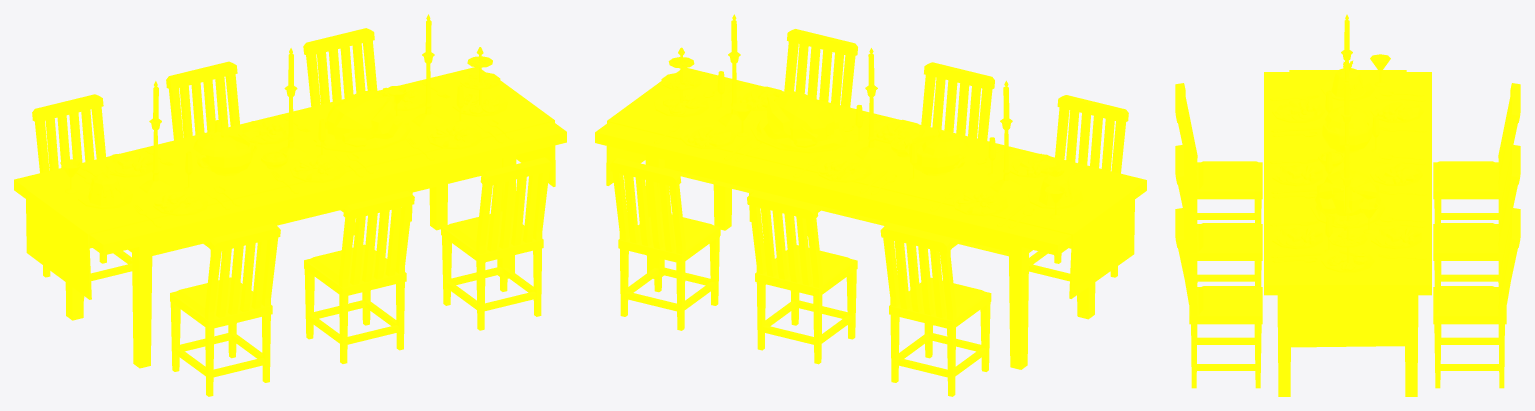
Rendered from table-christmas-dinner-english.glb.
3 renders of one model, left to right at view 1: azimuth 30°, elevation 25°; view 2: azimuth 150°, elevation 25°; view 3: azimuth 270°, elevation 25°, orthographic. The views are drawn at different scales.
Visible parts, largest first — view 1: table_dinner_christmas, chair_dinner_christmas__1_, chair_dinner_christmas, chair_dinner_christmas__2_, chair_dinner_christmas__3_, turkey_roasted, chair_dinner_christmas__5_, chair_dinner_christmas__4_, etagere_christmas_full, christmas_pudding, mashed_potato_base, plate_dinner_english__1_ (+9 smaller); view 2: table_dinner_christmas, chair_dinner_christmas__3_, chair_dinner_christmas__5_, chair_dinner_christmas__4_, chair_dinner_christmas, turkey_roasted, chair_dinner_christmas__1_, chair_dinner_christmas__2_, etagere_christmas_full, christmas_pudding, plate_dinner_english__3_, plate_dinner_english__4_ (+9 smaller); view 3: table_dinner_christmas, chair_dinner_christmas__2_, chair_dinner_christmas__5_, chair_dinner_christmas__1_, chair_dinner_christmas__4_, chair_dinner_christmas, chair_dinner_christmas__3_, turkey_roasted, etagere_christmas_full, christmas_pudding, mashed_potato_base, plate_dinner_english (+10 smaller).
Part boxes in pixels (x1=…): table_dinner_christmas: x1=14, y1=67, x2=566, y2=368; chair_dinner_christmas__1_: x1=304, y1=191, x2=414, y2=363; chair_dinner_christmas: x1=170, y1=223, x2=280, y2=396; chair_dinner_christmas__2_: x1=441, y1=157, x2=551, y2=330; chair_dinner_christmas__3_: x1=32, y1=94, x2=132, y2=300; turkey_roasted: x1=313, y1=90, x2=410, y2=152; chair_dinner_christmas__5_: x1=303, y1=28, x2=412, y2=235; chair_dinner_christmas__4_: x1=166, y1=61, x2=239, y2=253; etagere_christmas_full: x1=452, y1=47, x2=507, y2=116; christmas_pudding: x1=78, y1=165, x2=132, y2=209; mashed_potato_base: x1=196, y1=135, x2=257, y2=176; plate_dinner_english__1_: x1=290, y1=158, x2=345, y2=182; table_dinner_christmas: x1=595, y1=68, x2=1146, y2=369; chair_dinner_christmas__3_: x1=880, y1=224, x2=991, y2=396; chair_dinner_christmas__5_: x1=610, y1=157, x2=720, y2=330; chair_dinner_christmas__4_: x1=747, y1=191, x2=857, y2=364; chair_dinner_christmas: x1=1029, y1=95, x2=1128, y2=301; turkey_roasted: x1=750, y1=91, x2=847, y2=153; chair_dinner_christmas__1_: x1=894, y1=62, x2=994, y2=254; chair_dinner_christmas__2_: x1=749, y1=29, x2=857, y2=235; etagere_christmas_full: x1=654, y1=47, x2=708, y2=117; christmas_pudding: x1=1028, y1=169, x2=1083, y2=209; plate_dinner_english__3_: x1=953, y1=191, x2=1008, y2=216; plate_dinner_english__4_: x1=817, y1=158, x2=871, y2=182; table_dinner_christmas: x1=1264, y1=70, x2=1431, y2=396; chair_dinner_christmas__2_: x1=1175, y1=208, x2=1262, y2=388; chair_dinner_christmas__5_: x1=1433, y1=208, x2=1520, y2=388; chair_dinner_christmas__1_: x1=1175, y1=144, x2=1262, y2=286; chair_dinner_christmas__4_: x1=1433, y1=144, x2=1520, y2=286; chair_dinner_christmas: x1=1175, y1=83, x2=1262, y2=223; chair_dinner_christmas__3_: x1=1433, y1=83, x2=1520, y2=223; turkey_roasted: x1=1310, y1=170, x2=1385, y2=228; etagere_christmas_full: x1=1321, y1=207, x2=1374, y2=272; christmas_pudding: x1=1321, y1=60, x2=1374, y2=100; mashed_potato_base: x1=1322, y1=121, x2=1372, y2=153; plate_dinner_english: x1=1272, y1=99, x2=1324, y2=122.
Size of the model in its own units: 3.03 by 1.55 by 2.05.
3 materials, 3 textured.
